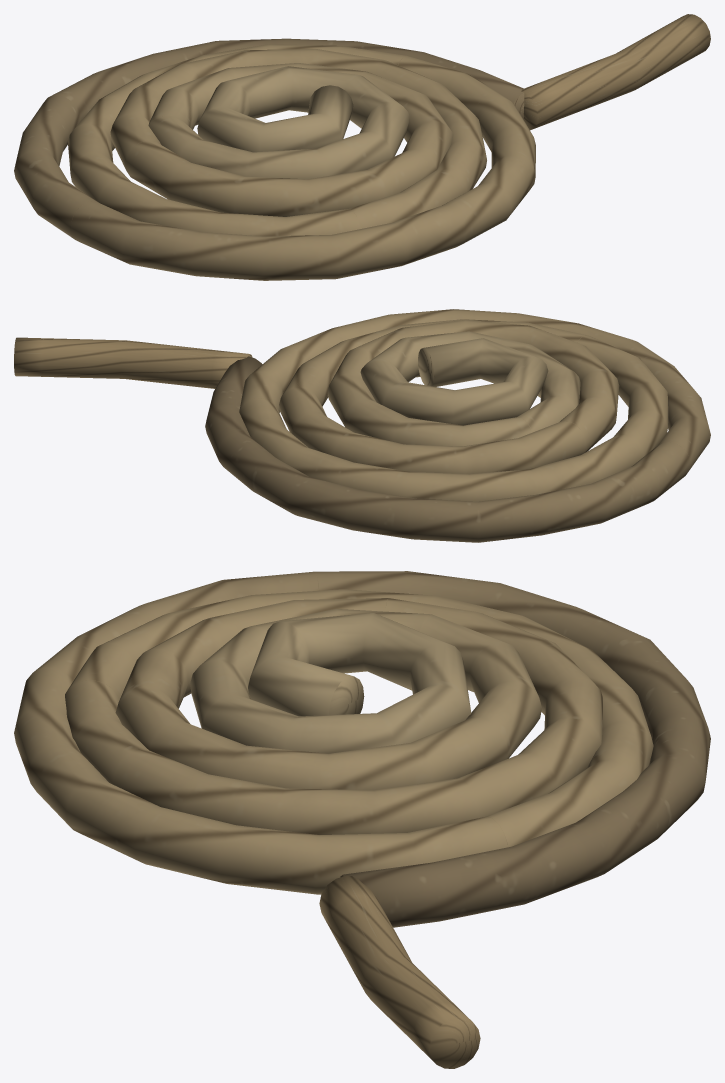
File: rope_coil_lg.glb
The picture shows the model from 3 angles, top to bottom: view 1: azimuth 30°, elevation 25°; view 2: azimuth 150°, elevation 25°; view 3: azimuth 270°, elevation 25°; orthographic projection. The views are drawn at different scales.
Visible parts, largest first — view 1: rope_coil_lg_LOD0; view 2: rope_coil_lg_LOD0; view 3: rope_coil_lg_LOD0.
Boxes of the visible parts, left/top/right/bottom form: rope_coil_lg_LOD0: left=14, top=14, right=710, bottom=280; rope_coil_lg_LOD0: left=14, top=309, right=710, bottom=542; rope_coil_lg_LOD0: left=14, top=571, right=710, bottom=1068.
Size of what is drawn, in the model's own units: 0.9961 by 0.1327 by 0.6557.
1 material, 1 textured.
